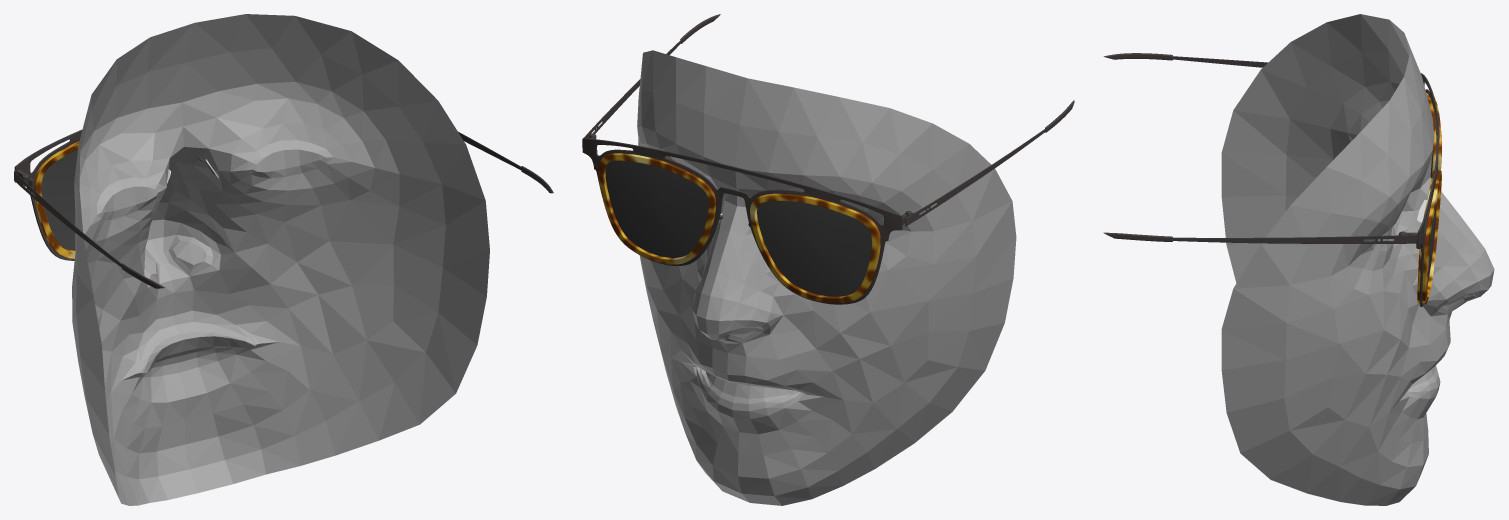
The model's file is dor_face.gltf.
3 views of the same model, side by side, from view 1: azimuth 30°, elevation 25°; view 2: azimuth 150°, elevation 25°; view 3: azimuth 270°, elevation 25° (orthographic). The views are drawn at different scales.
Parts seen in each view (by area): view 1: facemesh, frame, temple_right, temple_left; view 2: facemesh, frame, temple_right, temple_left; view 3: facemesh, frame, temple_left, temple_right.
Part boxes in pixels (<box>): facemesh: <box>72,14,489,505</box>; frame: <box>14,129,218,260</box>; temple_right: <box>14,171,165,288</box>; temple_left: <box>458,131,553,193</box>; facemesh: <box>637,50,1016,505</box>; frame: <box>582,133,913,304</box>; temple_right: <box>582,100,1074,226</box>; temple_left: <box>584,14,720,138</box>; facemesh: <box>1221,14,1494,505</box>; frame: <box>1399,73,1441,307</box>; temple_left: <box>1103,232,1416,243</box>; temple_right: <box>1103,53,1416,243</box>.
Bounding box in the file's own units: 0.159 × 0.1767 × 0.1436.
Materials: 6 (1 with a texture image).
